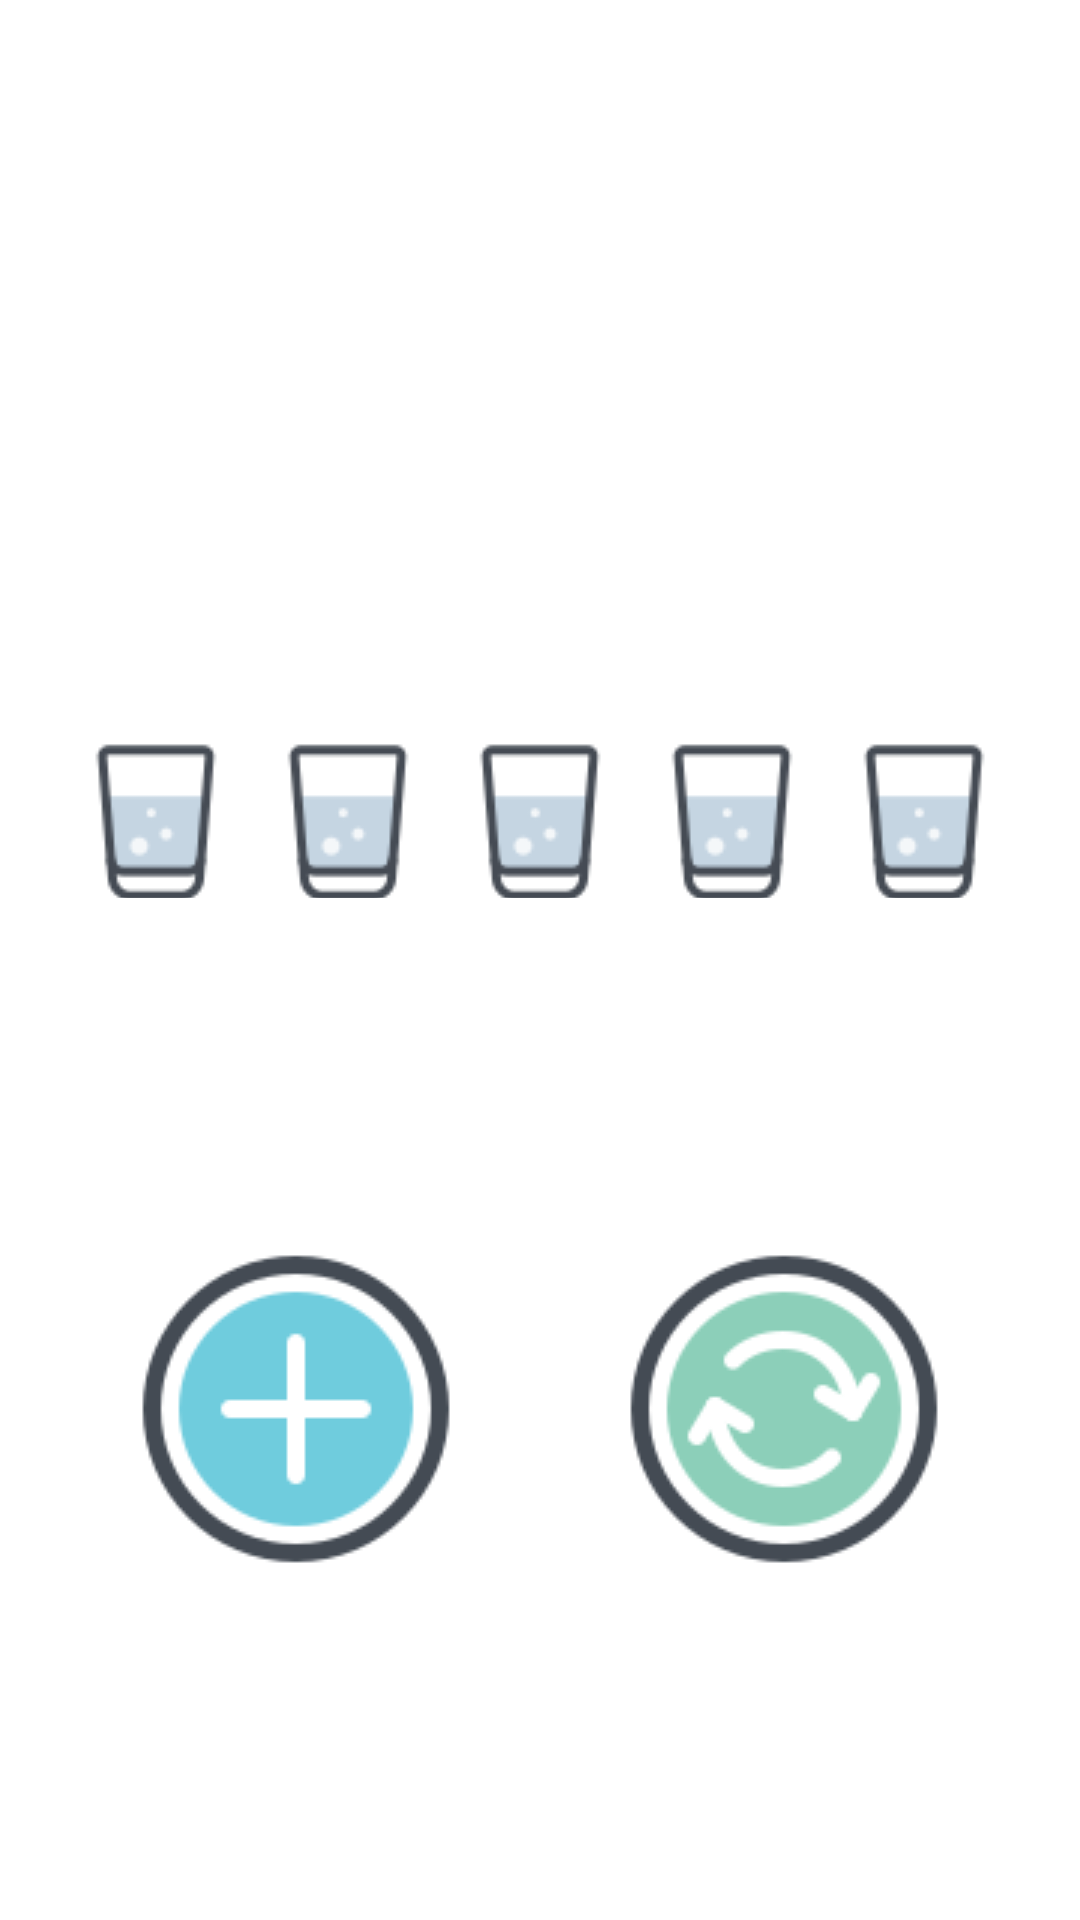

Icon click points for this 1080*1920 phone screenshot, format [x,y]:
Add Glass: [296,1409]
Reset Count: [784,1409]
